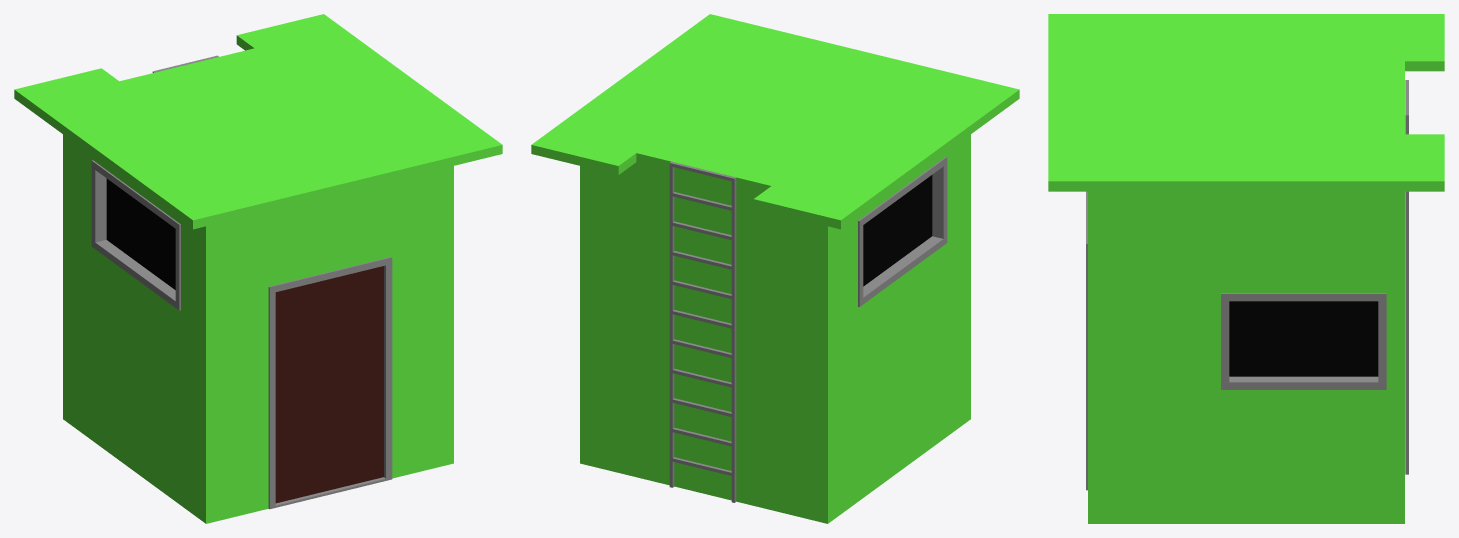
Rendered from Shack 1x1.FBX.
3 views of the same model, side by side, from view 1: azimuth 30°, elevation 25°; view 2: azimuth 150°, elevation 25°; view 3: azimuth 270°, elevation 25° (orthographic). The views are drawn at different scales.
Parts seen in each view (by area): view 1: Shack 1x1; view 2: Shack 1x1, Ladder; view 3: Shack 1x1, Ladder.
Boxes of the visible parts, left/top/right/bottom form: Shack 1x1: left=14, top=14, right=502, bottom=523; Shack 1x1: left=531, top=14, right=1019, bottom=523; Ladder: left=669, top=161, right=736, bottom=502; Shack 1x1: left=1048, top=14, right=1444, bottom=523; Ladder: left=1405, top=80, right=1408, bottom=474.
Bounding box in the file's own units: 99.94 × 100 × 99.94.
